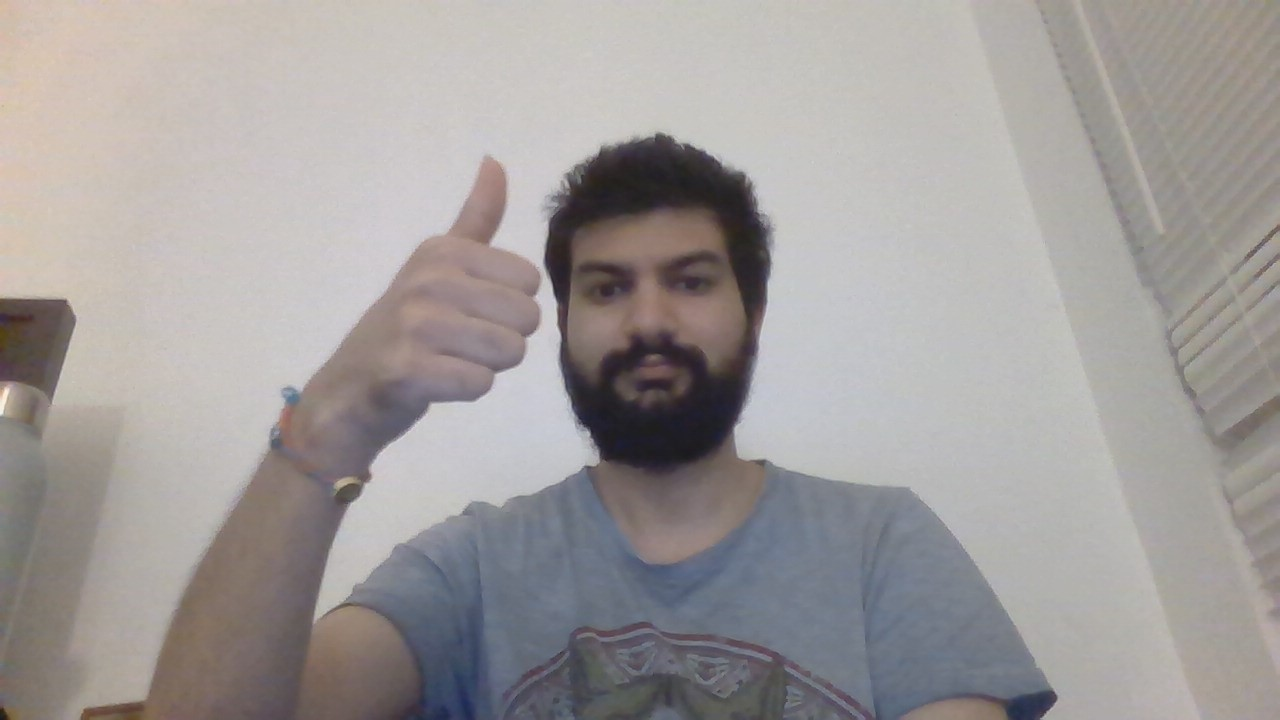up: (382, 147, 548, 416)
